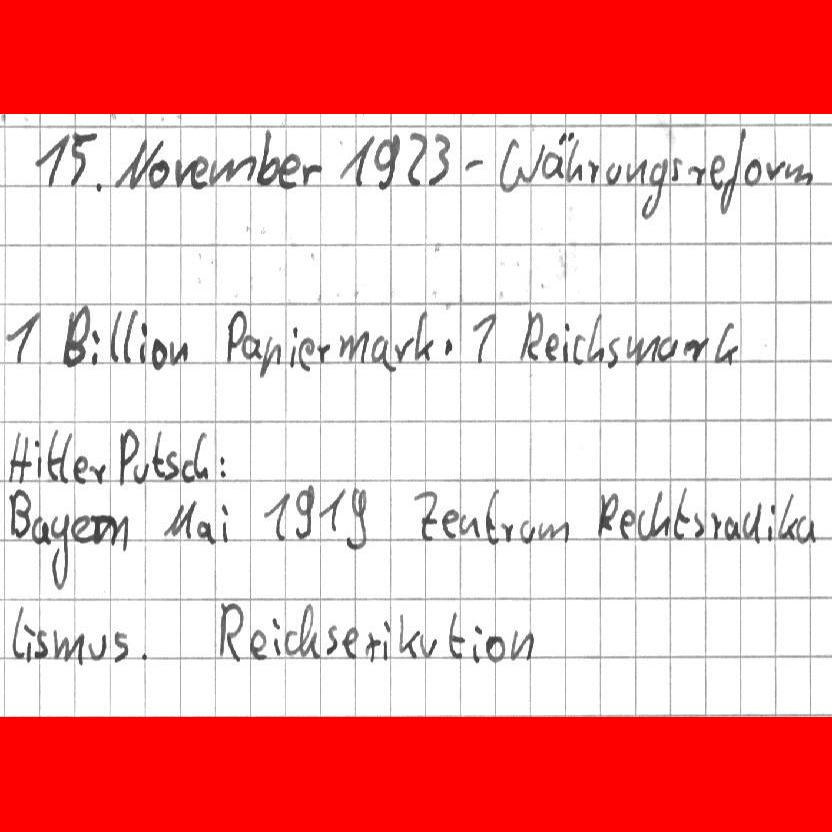Char: (497, 137, 546, 192), (718, 133, 746, 219), (111, 138, 158, 188), (3, 308, 40, 367), (33, 131, 69, 187), (639, 157, 668, 220), (60, 303, 88, 368), (338, 136, 372, 187), (542, 130, 574, 182), (49, 510, 70, 589), (211, 151, 257, 187), (372, 131, 399, 192), (217, 603, 244, 663), (345, 486, 369, 551), (69, 130, 97, 185), (516, 309, 542, 365), (118, 425, 142, 485), (293, 483, 317, 542), (256, 131, 279, 190), (413, 487, 438, 541), (223, 308, 247, 364), (406, 128, 428, 189), (263, 489, 288, 542), (470, 312, 495, 365), (163, 498, 194, 540), (429, 131, 452, 185), (53, 628, 86, 665), (7, 430, 29, 484), (411, 311, 433, 363), (299, 604, 319, 660), (648, 488, 669, 541), (9, 488, 30, 540), (625, 333, 660, 364), (397, 612, 420, 659), (713, 320, 737, 365), (596, 489, 617, 539), (338, 328, 367, 364), (319, 487, 342, 532), (10, 604, 28, 661), (45, 428, 63, 482), (259, 337, 281, 381), (483, 490, 500, 546), (507, 626, 532, 664), (190, 431, 209, 481), (672, 485, 689, 540), (446, 611, 465, 660), (586, 312, 603, 365), (122, 308, 138, 364), (107, 308, 122, 366), (279, 151, 301, 190), (185, 155, 209, 190), (150, 429, 166, 479), (144, 159, 169, 191), (367, 332, 390, 366), (564, 137, 581, 183), (745, 500, 763, 543), (91, 512, 113, 547), (782, 161, 814, 185), (110, 512, 130, 550), (683, 334, 710, 362), (58, 431, 72, 483), (778, 495, 794, 539), (248, 627, 268, 662), (741, 156, 763, 187), (538, 518, 567, 541), (709, 154, 726, 193), (605, 335, 623, 371), (456, 511, 480, 538), (150, 337, 169, 371), (297, 337, 316, 371), (440, 508, 460, 540), (173, 157, 194, 187), (71, 513, 90, 546), (656, 335, 679, 362), (625, 158, 647, 186), (239, 332, 261, 360), (30, 515, 50, 545), (324, 623, 340, 659), (765, 157, 788, 182), (301, 159, 322, 186), (112, 630, 130, 661), (88, 328, 103, 365), (485, 633, 504, 662), (169, 338, 188, 367), (723, 511, 742, 540), (618, 508, 635, 540), (90, 632, 108, 662), (342, 624, 357, 660), (288, 325, 300, 369), (364, 629, 380, 662), (795, 517, 816, 542), (471, 622, 483, 665), (463, 155, 487, 176), (219, 502, 231, 544), (130, 460, 150, 485), (604, 159, 623, 185), (74, 455, 90, 485), (686, 162, 706, 186), (269, 614, 280, 657), (91, 459, 109, 485), (543, 332, 558, 363), (34, 627, 48, 660), (22, 621, 33, 663), (195, 518, 215, 541), (690, 511, 706, 539), (395, 339, 411, 367), (162, 453, 179, 479), (421, 632, 438, 658), (181, 457, 196, 486), (636, 506, 648, 542), (764, 501, 775, 540), (381, 621, 392, 660), (572, 334, 586, 364), (561, 322, 571, 363), (708, 510, 722, 539), (32, 436, 41, 480), (284, 628, 298, 655), (139, 322, 148, 364), (669, 156, 682, 183), (315, 341, 330, 364), (586, 159, 599, 185), (520, 519, 534, 543), (442, 333, 456, 356), (503, 519, 516, 543), (218, 454, 228, 480), (139, 649, 151, 664), (94, 181, 104, 192)
